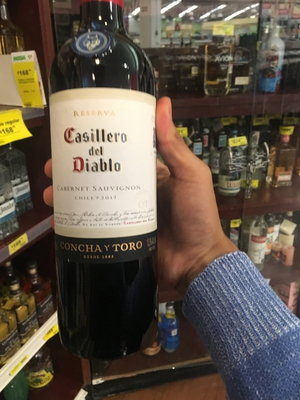casillero del diablo cabernet sauvignon: (43, 20, 179, 364)
